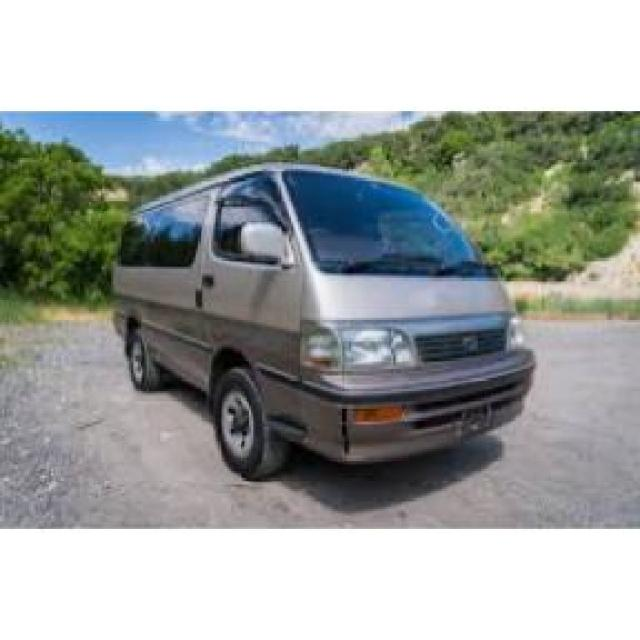Van: (106, 156, 545, 482)
